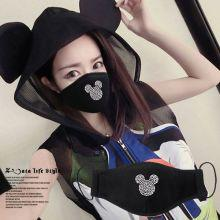OK: (59, 52, 113, 110)
